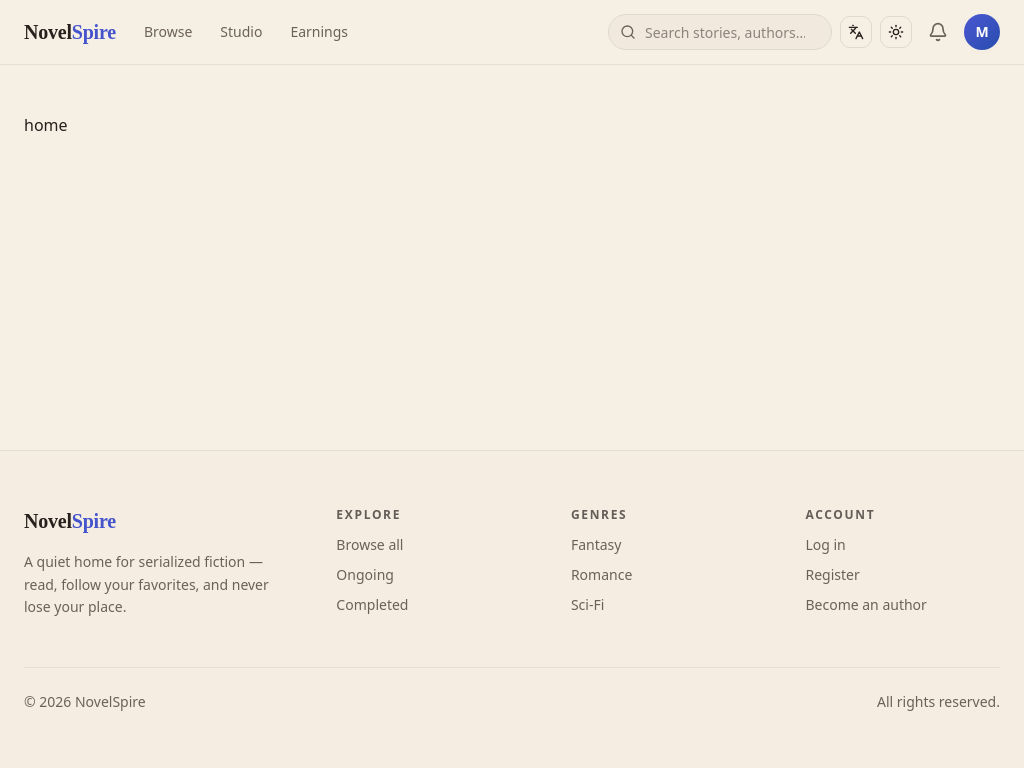
AppLayout navigation › does not offer Become Professional to a professional author
Click the button named "account": (982,32) [964,14,1000,50]
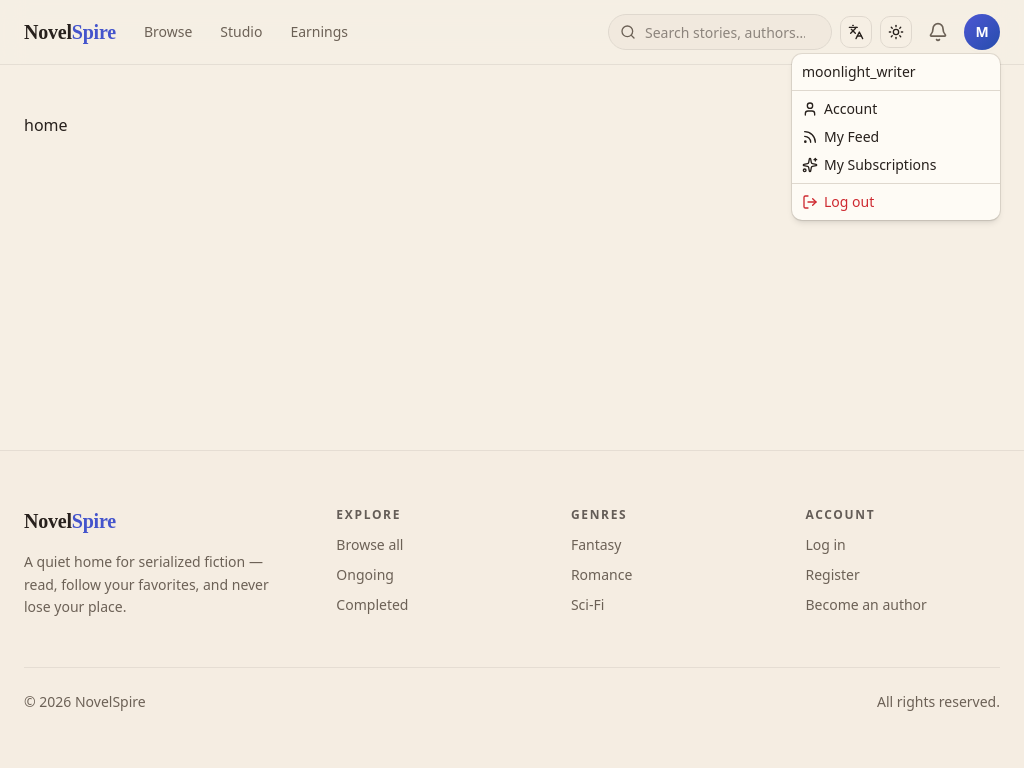
Check: the menu item "Account" is shown, box [802,99,877,118]
